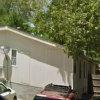Tree: (39, 2, 100, 68)
